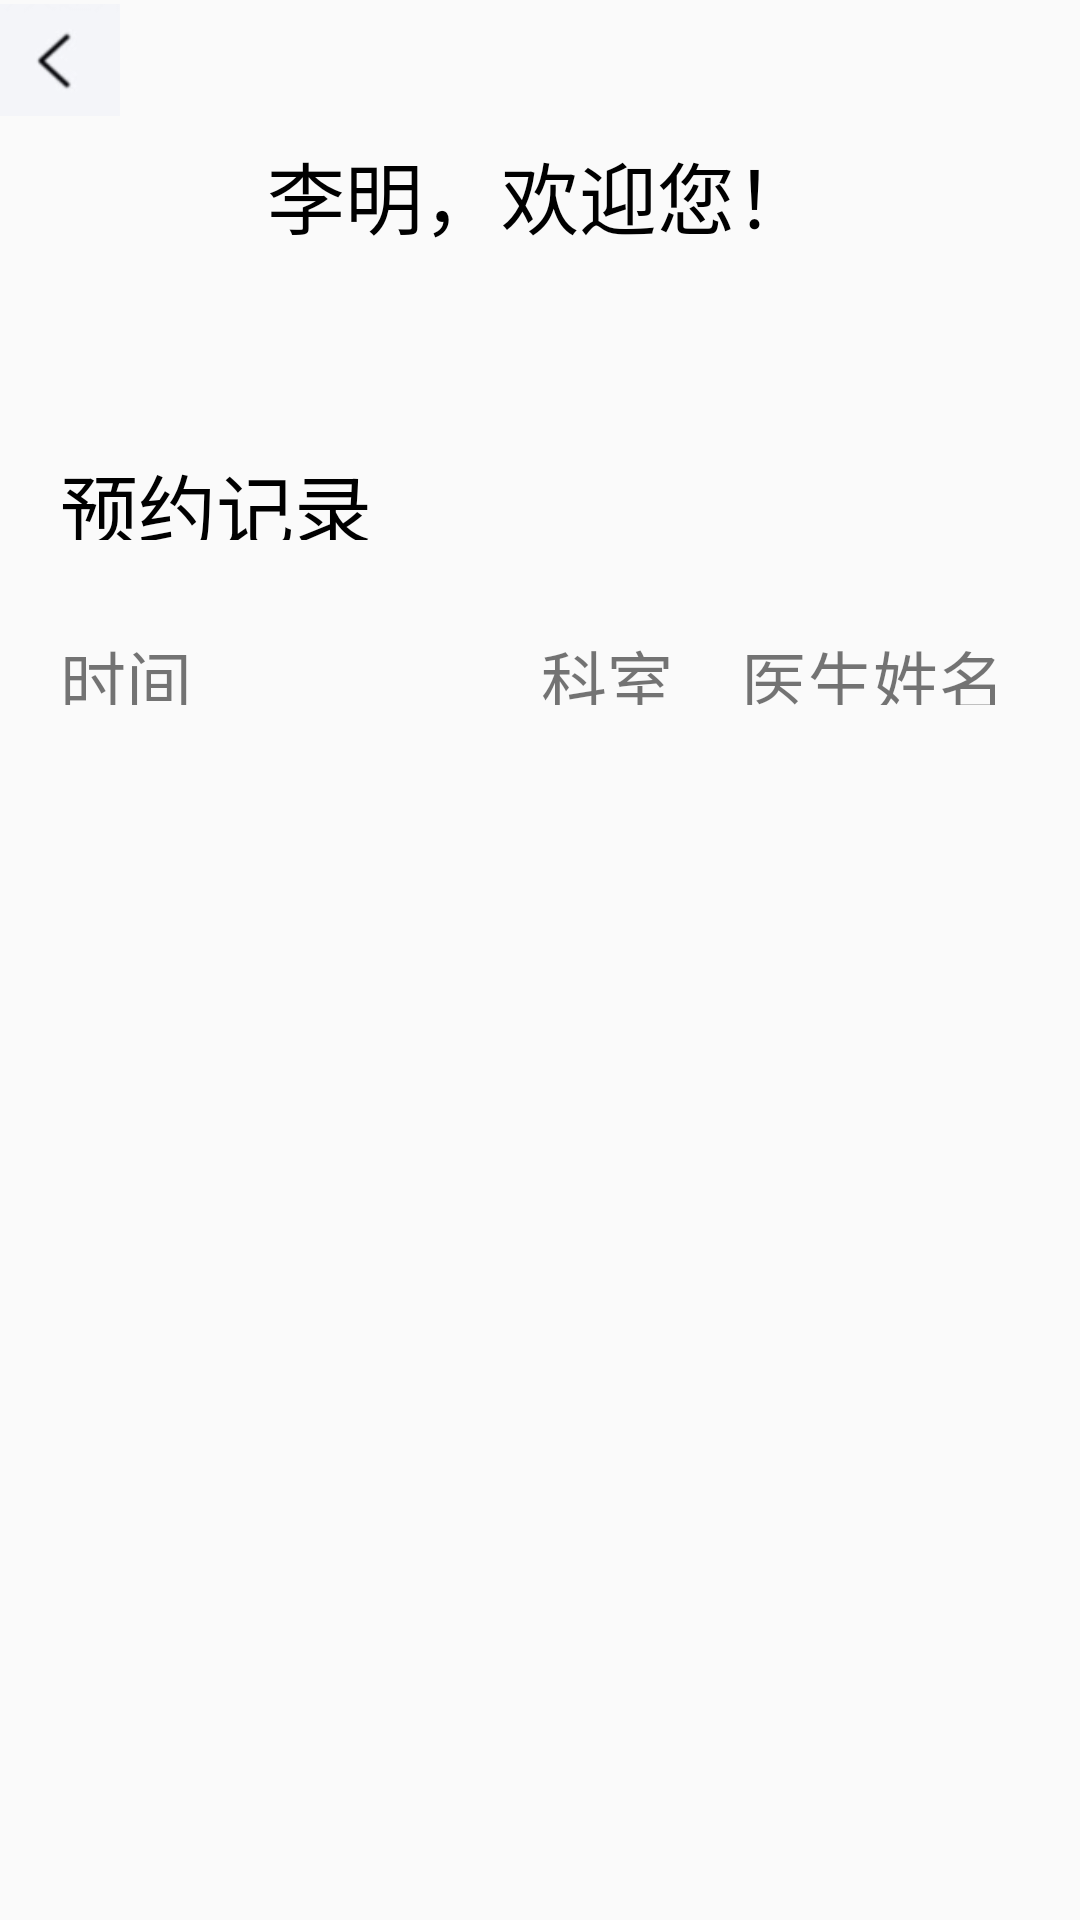

Icons on this 1080px x 1920px Android screen, each with its box as Rect(x1, y1, x2, y2):
back: Rect(37, 33, 71, 89)
